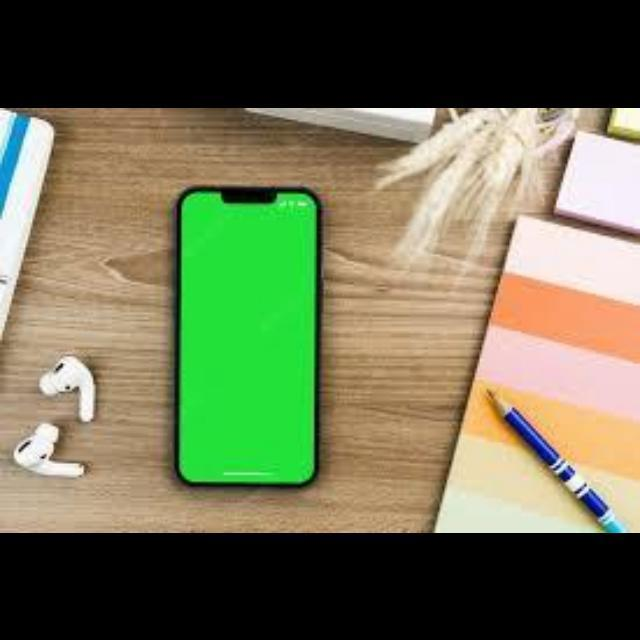PhoneUse: (173, 184, 321, 491)
